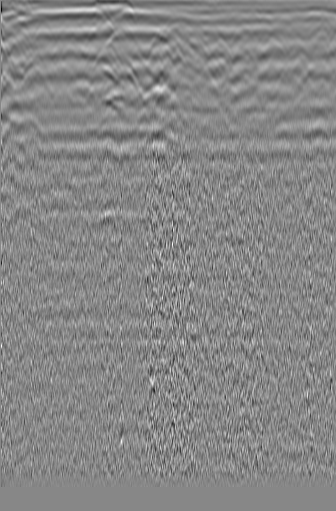가스: (89, 208, 126, 235)
상수: (0, 38, 31, 63)
오수: (298, 62, 322, 89)
우수: (143, 30, 173, 59)
